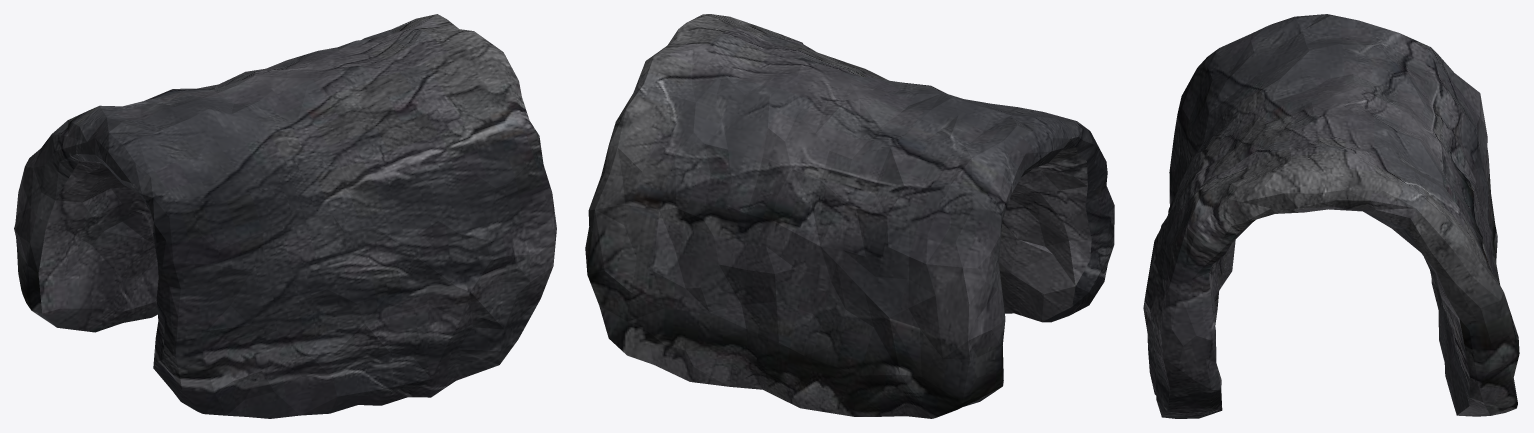
The model's file is Toonel2.fbx.
3 views of the same model, side by side, from view 1: azimuth 30°, elevation 25°; view 2: azimuth 150°, elevation 25°; view 3: azimuth 270°, elevation 25° (orthographic). The views are drawn at different scales.
Parts seen in each view (by area): view 1: rock.001; view 2: rock.001; view 3: rock.001.
Part boxes in pixels (x1,y1,x2,y2): rock.001: (14,14,556,418); rock.001: (585,14,1114,418); rock.001: (1143,14,1519,418).
Size of the model in its own units: 504 by 341 by 407.
